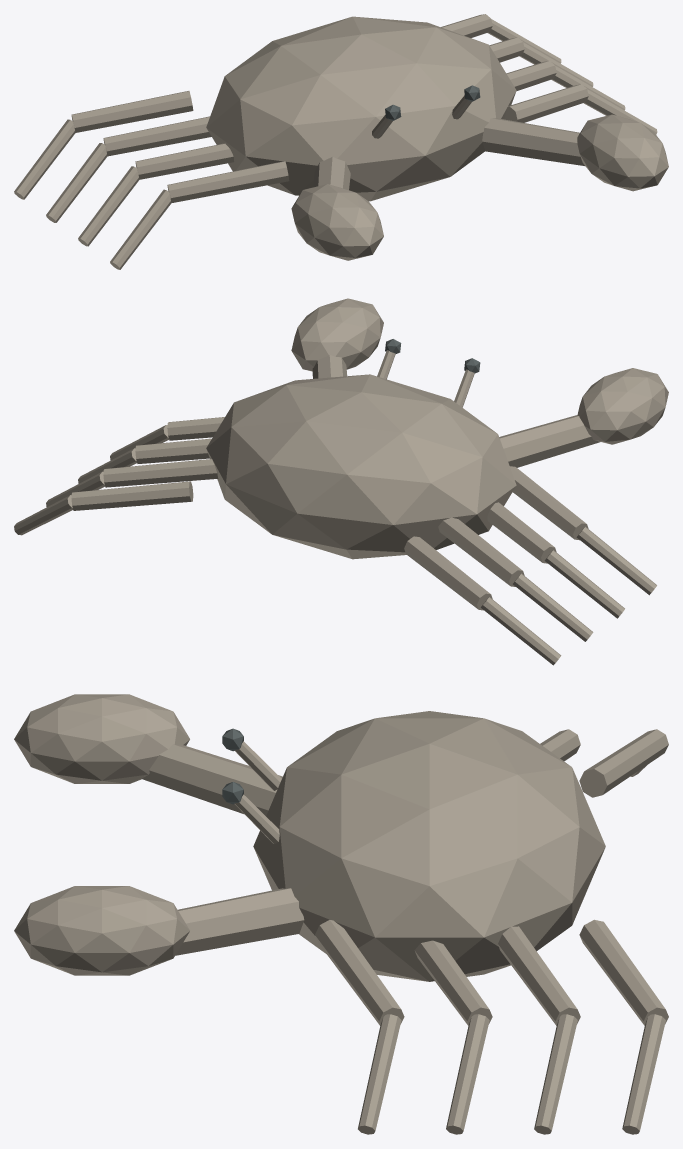
3 views of the same model, one above another, from view 1: azimuth 30°, elevation 25°; view 2: azimuth 150°, elevation 25°; view 3: azimuth 270°, elevation 25° (orthographic). The views are drawn at different scales.
Visible parts, largest first — view 1: CE-016 Eight-legged shore crab batched; view 2: CE-016 Eight-legged shore crab batched; view 3: CE-016 Eight-legged shore crab batched.
Part boxes in pixels (x1=…): CE-016 Eight-legged shore crab batched: x1=14, y1=14, x2=668, y2=269; CE-016 Eight-legged shore crab batched: x1=14, y1=298, x2=668, y2=665; CE-016 Eight-legged shore crab batched: x1=14, y1=694, x2=668, y2=1134.
Size of the model in its own units: 0.3442 by 0.0929 by 0.26.
